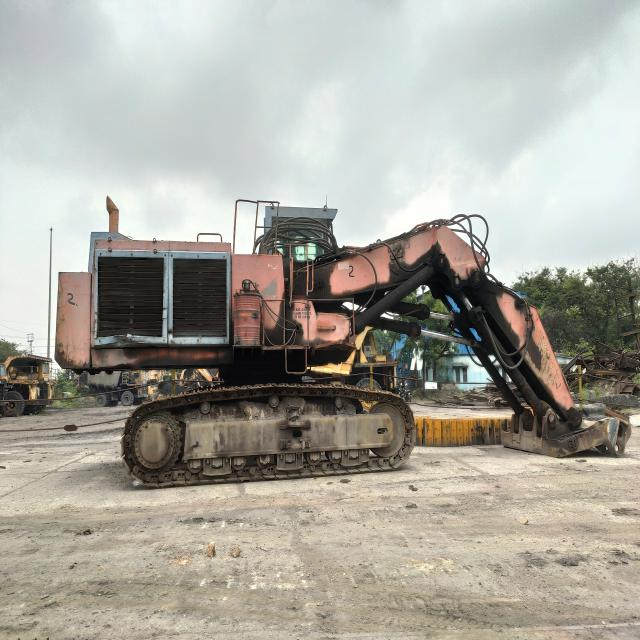excavator: (52, 200, 582, 489)
